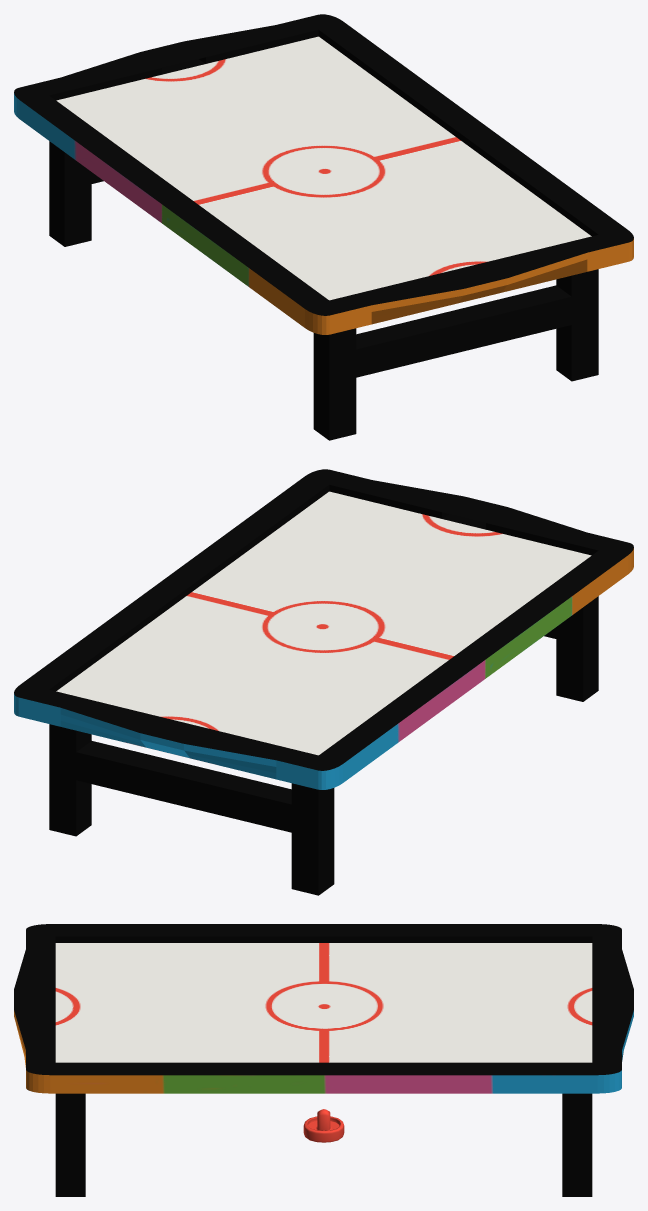
Rendered from Hockey.fbx.
3 views of the same model, one above another, from view 1: azimuth 30°, elevation 25°; view 2: azimuth 150°, elevation 25°; view 3: azimuth 270°, elevation 25° (orthographic). The views are drawn at different scales.
Parts seen in each view (by area): view 1: Hockey; view 2: Hockey; view 3: Hockey, Asas.
Boxes of the visible parts, left/top/right/bottom form: Hockey: left=14, top=14, right=633, bottom=440; Hockey: left=14, top=469, right=633, bottom=895; Hockey: left=14, top=924, right=633, bottom=1196; Asas: left=303, top=1109, right=344, bottom=1142.
Bounding box in the file's own units: 1.2 × 0.5027 × 2.08.
